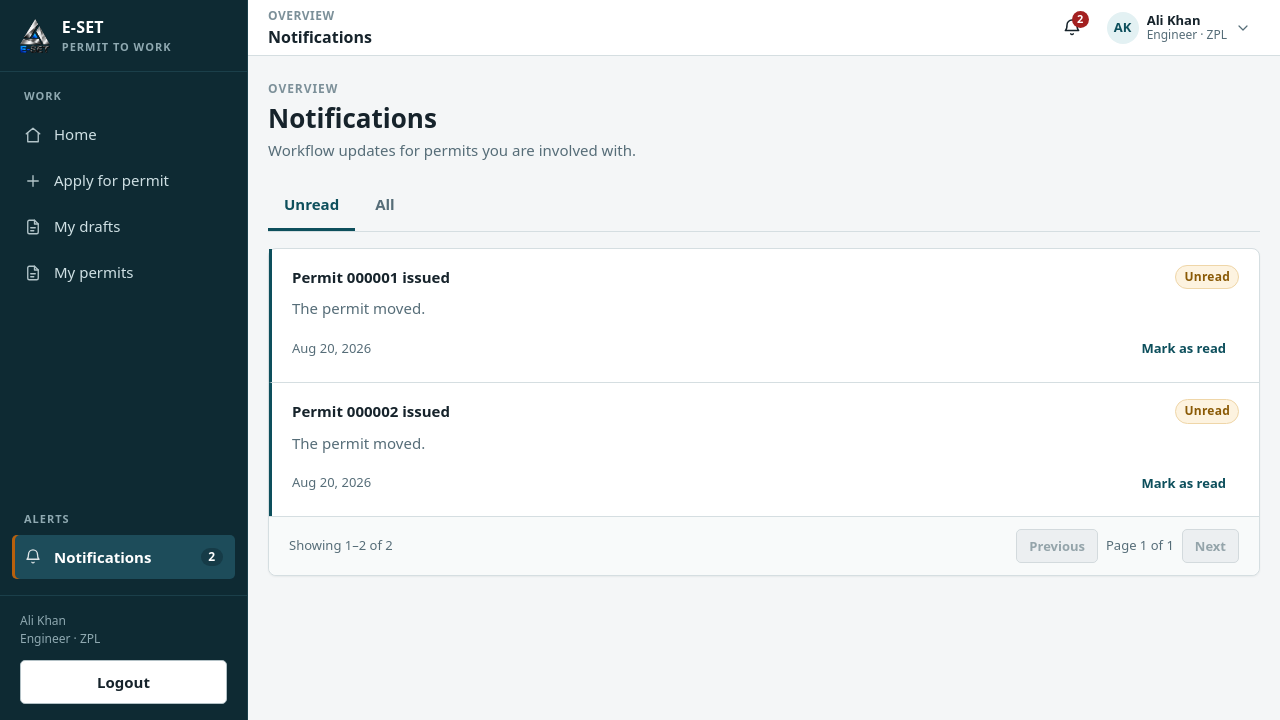
it: the unread badge follows the unread list › reaches 0 on the second, and both badges disappear
Check: the text "Permit 000001 issued" is shown, box top-left (292, 266), bottom-right (450, 288)
Check: the list item "Permit 000001 issued" is shown, box top-left (292, 267), bottom-right (450, 287)
Click the 1st button "Mark as read".
click(1184, 349)  # box top-left (1128, 332), bottom-right (1239, 366)
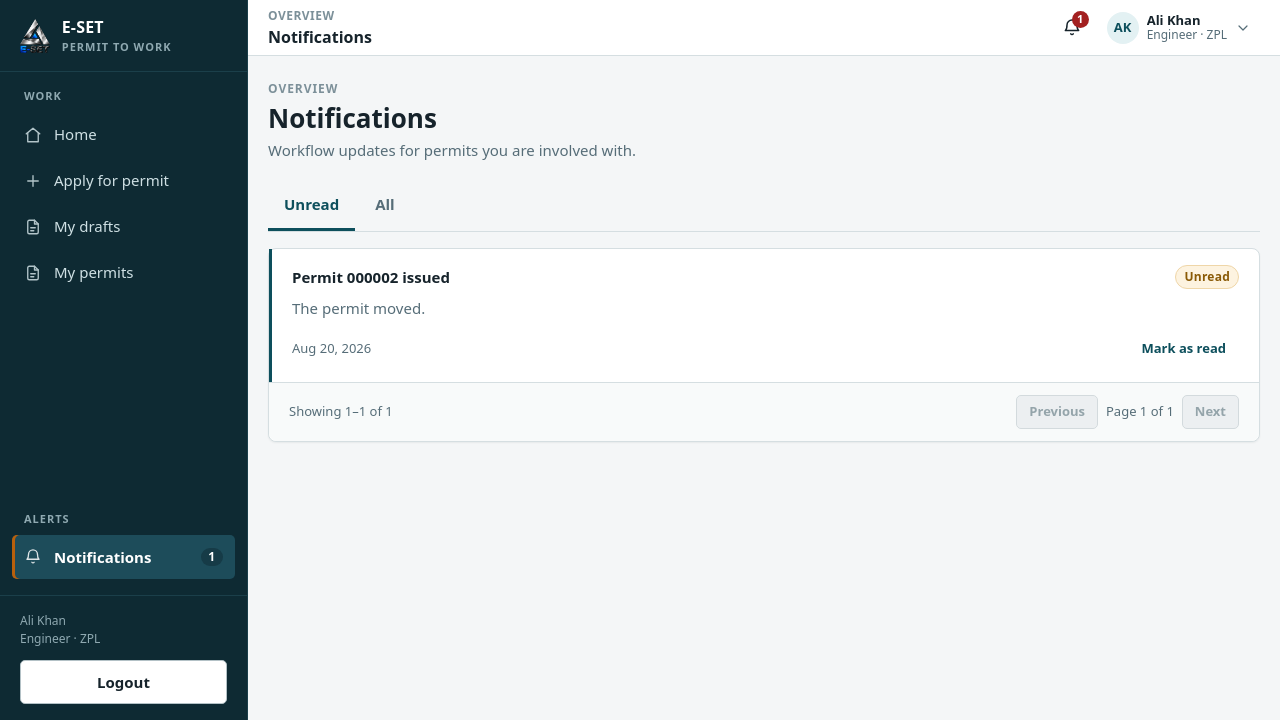
Check: the list item "Permit 000002 issued" is shown, box top-left (292, 267), bottom-right (450, 287)
Click the button "Mark as read".
click(1184, 349)  # box top-left (1128, 332), bottom-right (1239, 366)
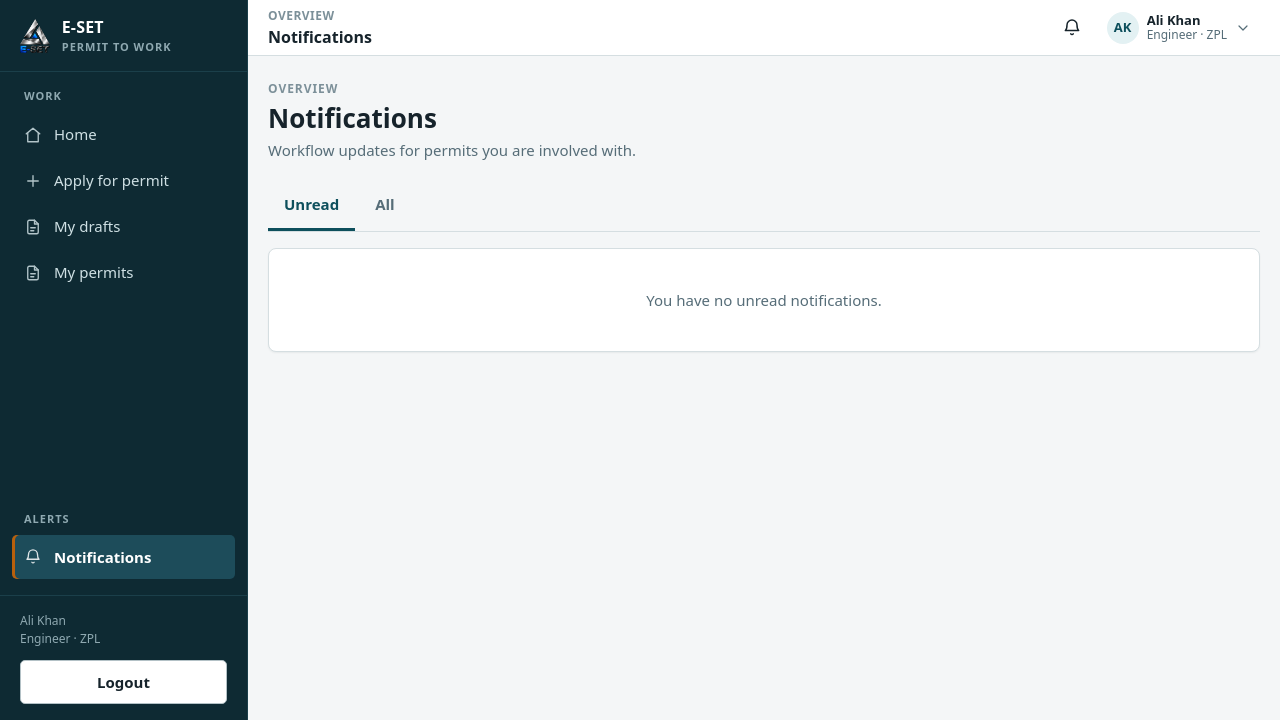
Check: the button named "Notifications" is shown, box top-left (1050, 6), bottom-right (1094, 50)
Check: the text with class "nav__count" is gone
